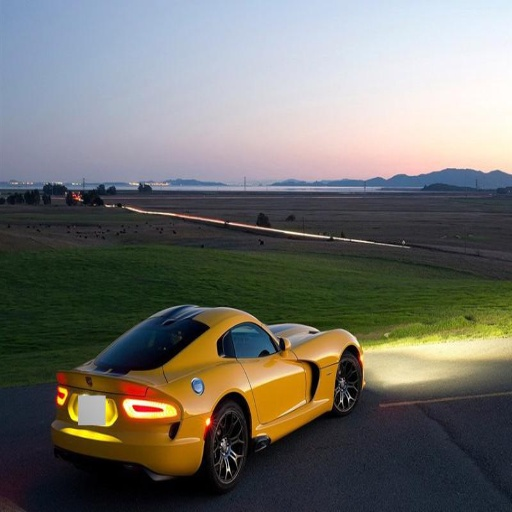back_bumper: (85, 417, 210, 472)
trunk: (73, 370, 181, 433)
